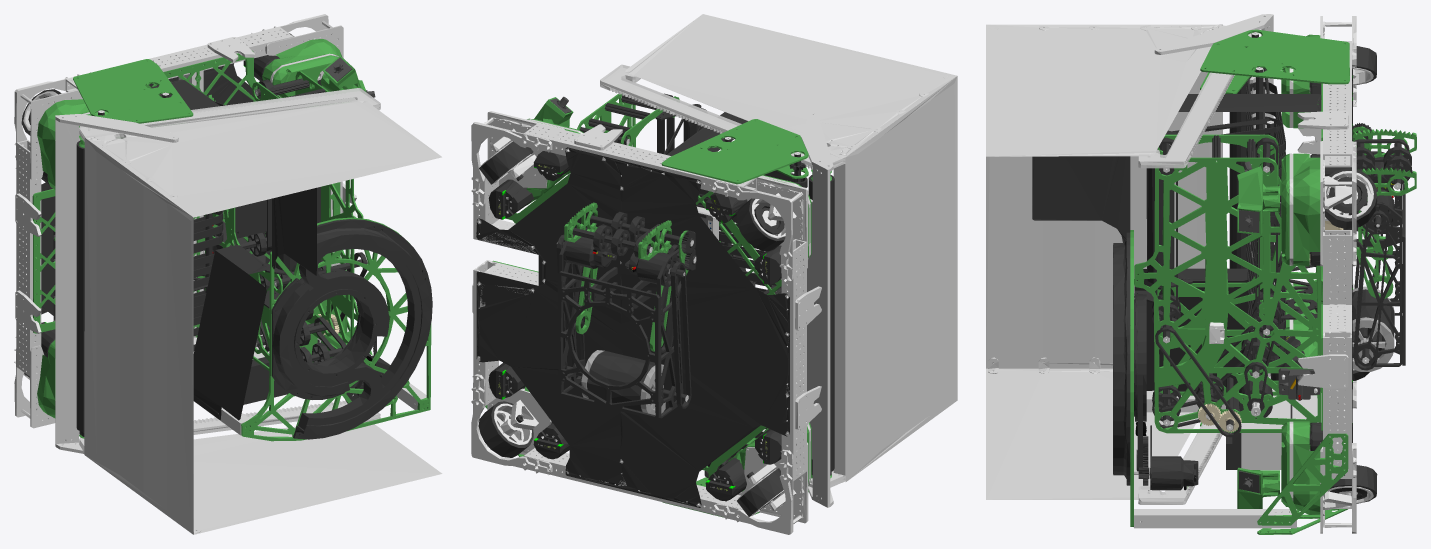
3 renders of one model, left to right at view 1: azimuth 30°, elevation 25°; view 2: azimuth 150°, elevation 25°; view 3: azimuth 270°, elevation 25°, orthographic. The views are drawn at different scales.
Visible parts, largest first — view 1: c2_mesh, main_mesh; view 2: main_mesh, c2_mesh, c0_mesh, c1_mesh; view 3: main_mesh, c2_mesh, c0_mesh, c1_mesh.
Boxes of the visible parts, x1=… form: c2_mesh: x1=55, y1=88, x2=442, y2=534; main_mesh: x1=14, y1=14, x2=432, y2=441; main_mesh: x1=471, y1=93, x2=821, y2=534; c2_mesh: x1=600, y1=14, x2=957, y2=507; c0_mesh: x1=556, y1=227, x2=691, y2=419; c1_mesh: x1=564, y1=202, x2=696, y2=352; main_mesh: x1=1032, y1=16, x2=1377, y2=534; c2_mesh: x1=986, y1=14, x2=1273, y2=504; c0_mesh: x1=1309, y1=151, x2=1405, y2=371; c1_mesh: x1=1352, y1=123, x2=1416, y2=298.
Bounding box in the file's own units: 0.6985 × 0.6969 × 0.7548.
